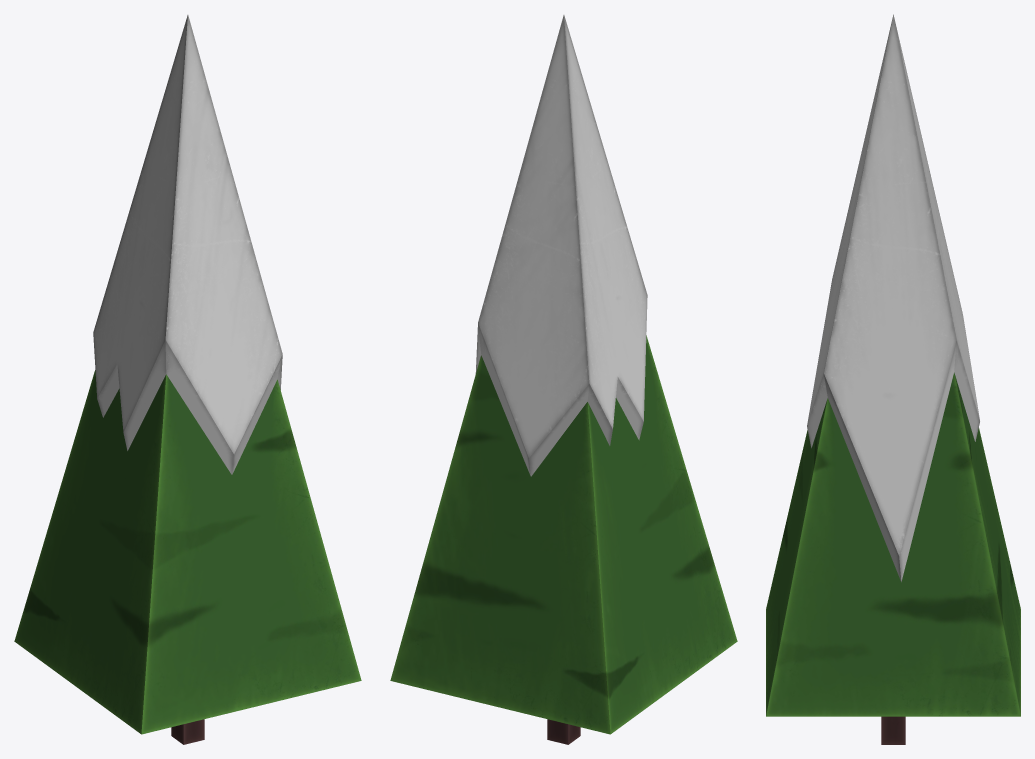
Rendered from tree_winter.fbx.
3 renders of one model, left to right at view 1: azimuth 30°, elevation 25°; view 2: azimuth 150°, elevation 25°; view 3: azimuth 270°, elevation 25°, orthographic.
Parts seen in each view (by area): view 1: tree_winter; view 2: tree_winter; view 3: tree_winter.
Boxes of the visible parts, x1,y1,x2,y2 form: tree_winter: (14,15,361,744); tree_winter: (390,15,737,744); tree_winter: (766,14,1020,744).
Size of the model in its own units: 105 by 330 by 105.
1 material, 1 textured.
